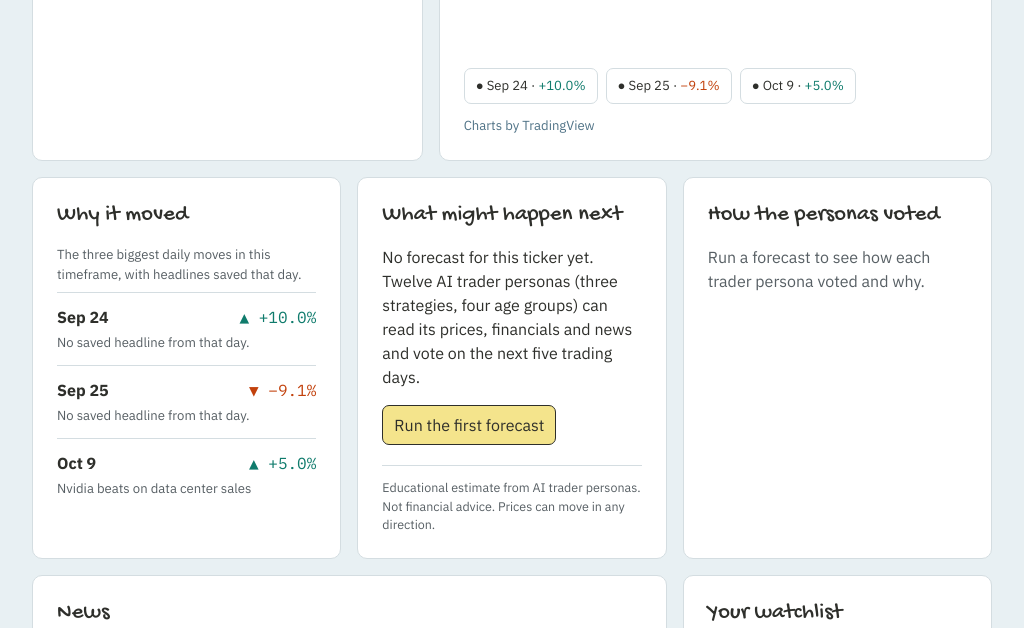
Test: running a forecast › shows why a job failed and lets you try again
(page scrolled)
Click the button "Run the first forecast" at (469, 425), box [382,405,556,445]
Wait 3000 ms
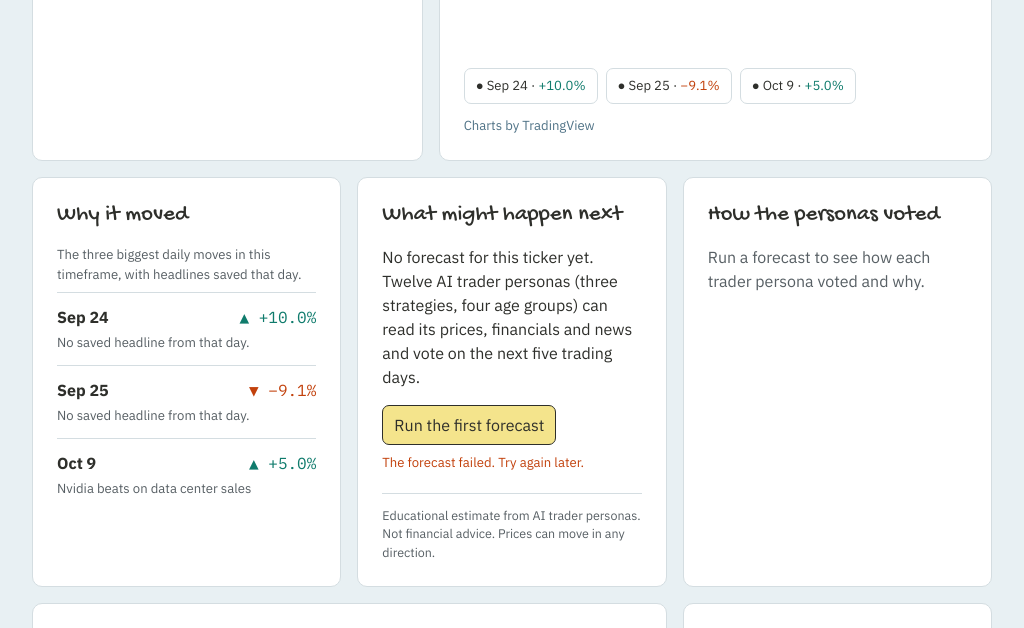
Result: the text "The forecast failed. Try again later." is shown at [382,454,584,471]
